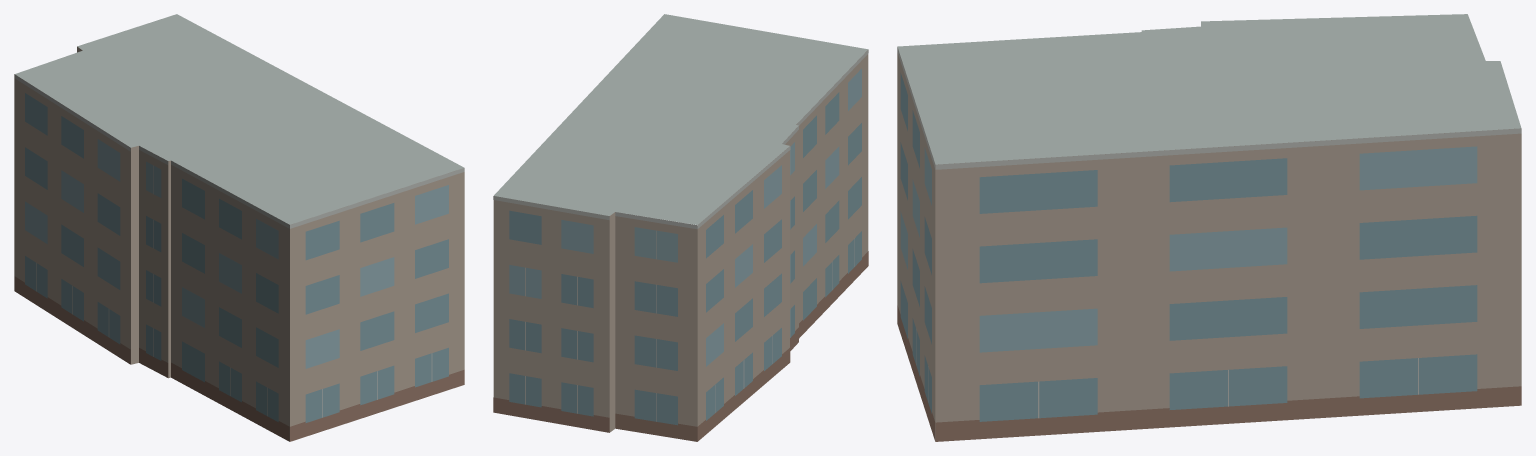
File: survey-upis-32723776.glb
The picture shows the model from 3 angles, left to right: view 1: azimuth 30°, elevation 25°; view 2: azimuth 150°, elevation 25°; view 3: azimuth 270°, elevation 25°; orthographic projection. The views are drawn at different scales.
Visible parts, largest first — view 1: survey-upis-32723776.tmp; view 2: survey-upis-32723776.tmp; view 3: survey-upis-32723776.tmp.
Part boxes in pixels (<box>): survey-upis-32723776.tmp: <box>14,14,464,441</box>; survey-upis-32723776.tmp: <box>493,14,868,441</box>; survey-upis-32723776.tmp: <box>897,14,1521,441</box>.
Bounding box in the file's own units: 15.04 × 12.9 × 26.33.
